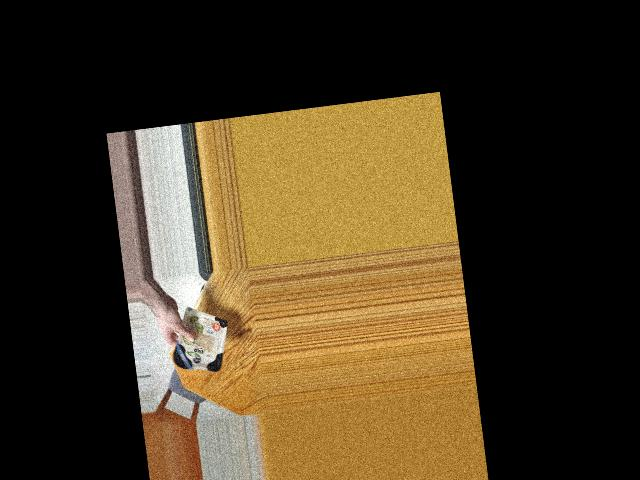cheese: (166, 313, 232, 378)
